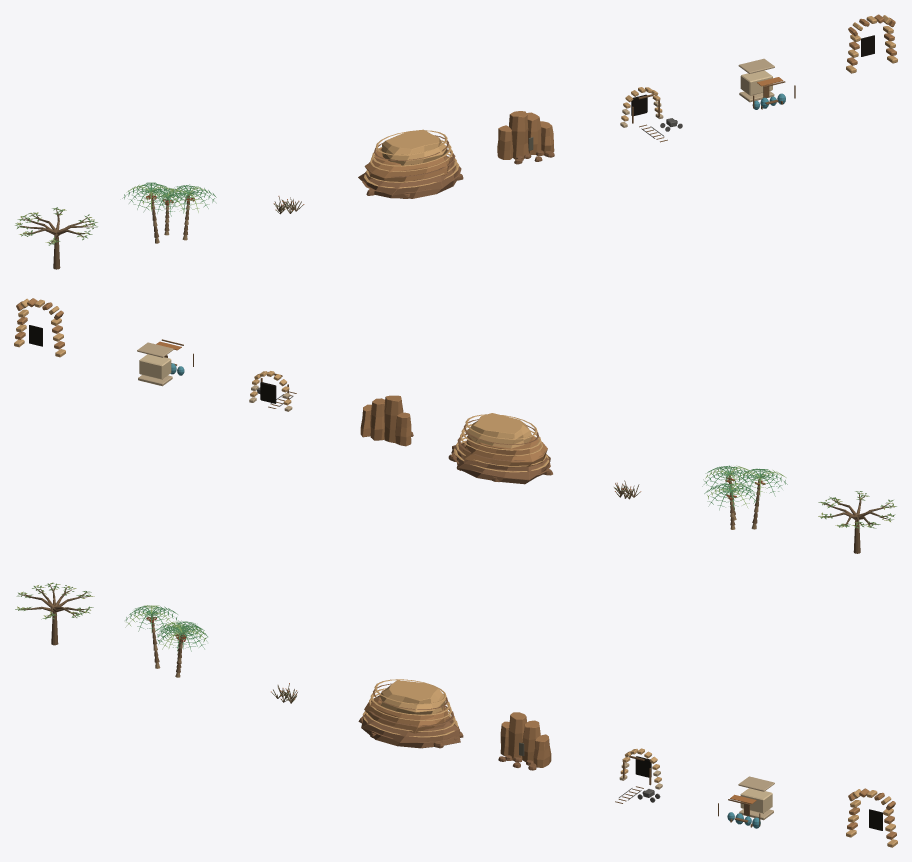
Rendered from sunscar_drylands_environment_kit_v1.glb.
The picture shows the model from 3 angles, top to bottom: view 1: azimuth 30°, elevation 25°; view 2: azimuth 150°, elevation 25°; view 3: azimuth 330°, elevation 25°; orthographic projection.
Visible parts, largest first — view 1: SunspireMesa, SunrunSourceFormation, DatePalmCluster, SunscarWaystation, SunscarNaturalArch, DryAcaciaCluster, CopperShelfMineEntrance; view 2: SunspireMesa, SunrunSourceFormation, DatePalmCluster, SunscarWaystation, SunscarNaturalArch, DryAcaciaCluster, CopperShelfMineEntrance; view 3: SunspireMesa, SunrunSourceFormation, DatePalmCluster, SunscarWaystation, SunscarNaturalArch, DryAcaciaCluster, CopperShelfMineEntrance.
Part boxes in pixels (box(x1,y1,x2,y2)): SunspireMesa: box(358, 129, 463, 198); SunrunSourceFormation: box(497, 111, 554, 164); DatePalmCluster: box(122, 182, 216, 243); SunscarWaystation: box(738, 58, 795, 109); SunscarNaturalArch: box(846, 14, 897, 73); DryAcaciaCluster: box(15, 207, 97, 269); CopperShelfMineEntrance: box(620, 87, 682, 142); SunspireMesa: box(448, 413, 552, 484); SunrunSourceFormation: box(360, 395, 413, 446); DatePalmCluster: box(702, 465, 787, 529); SunscarWaystation: box(137, 339, 193, 386); SunscarNaturalArch: box(14, 298, 65, 357); DryAcaciaCluster: box(818, 491, 896, 553); CopperShelfMineEntrance: box(249, 371, 296, 411); SunspireMesa: box(358, 679, 463, 748); SunrunSourceFormation: box(498, 712, 551, 770); DatePalmCluster: box(125, 605, 207, 677); SunscarWaystation: box(718, 776, 774, 828); SunscarNaturalArch: box(846, 788, 897, 847); DryAcaciaCluster: box(15, 582, 94, 645); CopperShelfMineEntrance: box(615, 748, 662, 803).
Size of the model in its own units: 91.27 by 5.55 by 8.09.
